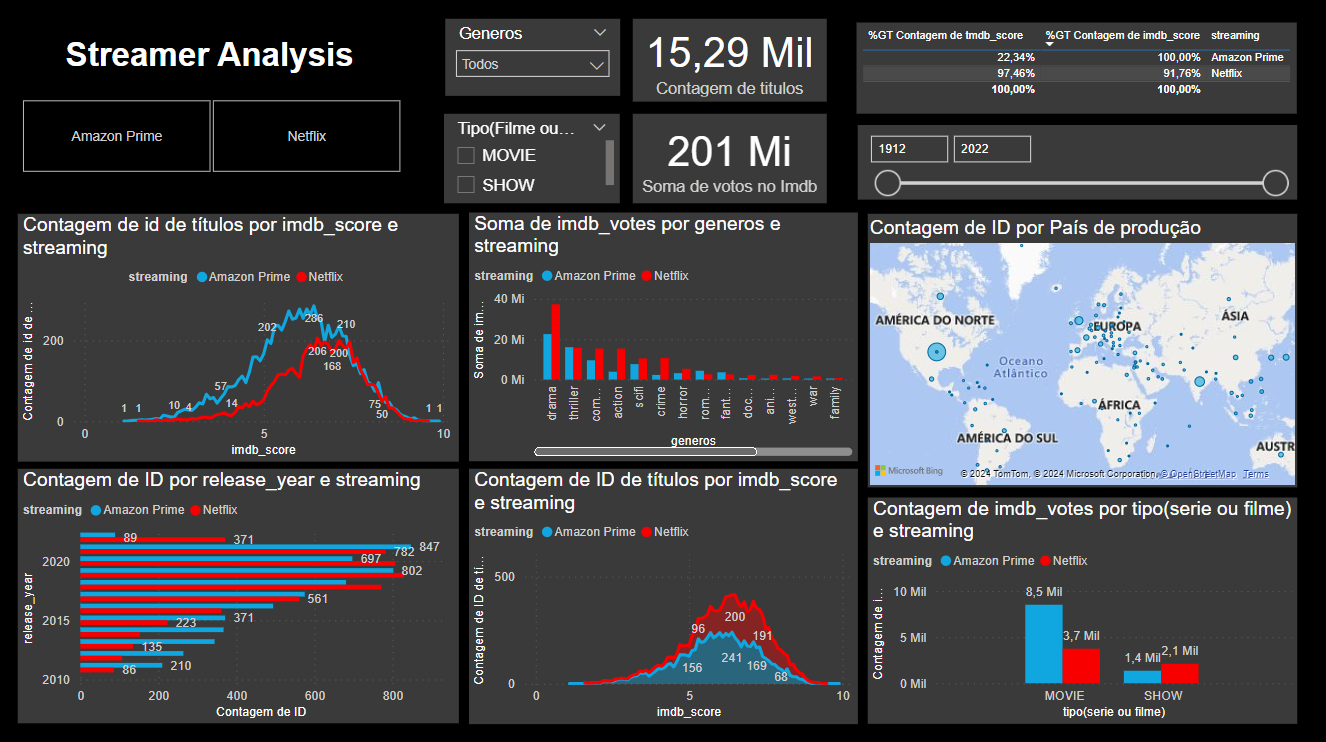

The dashboard page shown, as its layout file describes it:
{"tool":"powerbi","page":{"name":"Página 1","canvas":[1280,720],"ordinal":0},"visuals":[{"type":"lineChart","fields":{"Y":["CountNonNull(amazon_netflix_limpo.ID)"],"Category":["amazon_netflix_limpo.imdb_score"],"Series":["amazon_netflix_limpo.streaming"]},"box":[18.2,206.4,425.5,239.1],"z":0},{"type":"stackedAreaChart","fields":{"Category":["amazon_netflix_limpo.imdb_score"],"Y":["CountNonNull(amazon_netflix_limpo.ID)"],"Series":["amazon_netflix_limpo.streaming"]},"box":[453.6,452.7,375.5,246.4],"z":1000},{"type":"slicer","fields":{"Values":["amazon_netflix_limpo.streaming"]},"box":[0,92.9,408.6,77.1],"z":2000},{"type":"tableEx","fields":{"Values":["amazon_netflix_limpo.tmdb_score","amazon_netflix_limpo.imdb_score","amazon_netflix_limpo.streaming"]},"box":[827.8,22.2,424.4,87.8],"z":3000},{"type":"clusteredColumnChart","fields":{"Category":["amazon_netflix_limpo.genres.1"],"Series":["amazon_netflix_limpo.streaming"],"Y":["Sum(amazon_netflix_limpo.imdb_votes)"]},"box":[453.8,205,375,240],"z":4000},{"type":"clusteredBarChart","fields":{"Category":["amazon_netflix_limpo.release_year"],"Y":["Count(amazon_netflix_limpo.ID)"],"Series":["amazon_netflix_limpo.streaming"]},"box":[18.7,452.2,424.8,246.2],"z":5000},{"type":"slicer","fields":{"Values":["amazon_netflix_limpo.genres.1"]},"box":[430,18.6,168.6,74.3],"z":6000},{"type":"slicer","fields":{"Values":["amazon_netflix_limpo.release_year"]},"box":[828.2,120,423.6,71.8],"z":7000},{"type":"card","fields":{"Values":["Count(amazon_netflix_limpo.title)"]},"box":[610.9,18.2,187.3,80],"z":8000},{"type":"card","fields":{"Values":["Sum(amazon_netflix_limpo.imdb_votes)"]},"box":[610.9,110,187.3,86.4],"z":9000},{"type":"clusteredColumnChart","fields":{"Category":["amazon_netflix_limpo.type"],"Series":["amazon_netflix_limpo.streaming"],"Y":["CountNonNull(amazon_netflix_limpo.imdb_votes)"]},"box":[838,480,414,218],"z":10000},{"type":"map","fields":{"Category":["amazon_netflix_limpo.País de produção"],"Size":["CountNonNull(amazon_netflix_limpo.ID)"]},"box":[838,206,414,264],"z":11000},{"type":"textbox","box":[48.7,30,310,53.3],"z":12000},{"type":"slicer","fields":{"Values":["amazon_netflix_limpo.type"]},"box":[429.2,110,169.4,86],"z":13000}]}

Visuals, with their boxes in screenshot pixels (x1, y1, x2, y2), scaled from the page's 1280x720 canvas onto the 1326x742 screenshot:
lineChart - CountNonNull(amazon_netflix_limpo.ID) x amazon_netflix_limpo.imdb_score: 19/213/460/459
stackedAreaChart - amazon_netflix_limpo.imdb_score x CountNonNull(amazon_netflix_limpo.ID): 470/467/859/720
slicer - amazon_netflix_limpo.streaming: 0/96/423/175
tableEx - amazon_netflix_limpo.tmdb_score x amazon_netflix_limpo.imdb_score: 858/23/1297/113
clusteredColumnChart - amazon_netflix_limpo.genres.1 x amazon_netflix_limpo.streaming: 470/211/859/459
clusteredBarChart - amazon_netflix_limpo.release_year x Count(amazon_netflix_limpo.ID): 19/466/459/720
slicer - amazon_netflix_limpo.genres.1: 445/19/620/96
slicer - amazon_netflix_limpo.release_year: 858/124/1297/198
card - Count(amazon_netflix_limpo.title): 633/19/827/101
card - Sum(amazon_netflix_limpo.imdb_votes): 633/113/827/202
clusteredColumnChart - amazon_netflix_limpo.type x amazon_netflix_limpo.streaming: 868/495/1297/719
map - amazon_netflix_limpo.País de produção x CountNonNull(amazon_netflix_limpo.ID): 868/212/1297/484
textbox: 50/31/372/86
slicer - amazon_netflix_limpo.type: 445/113/620/202
